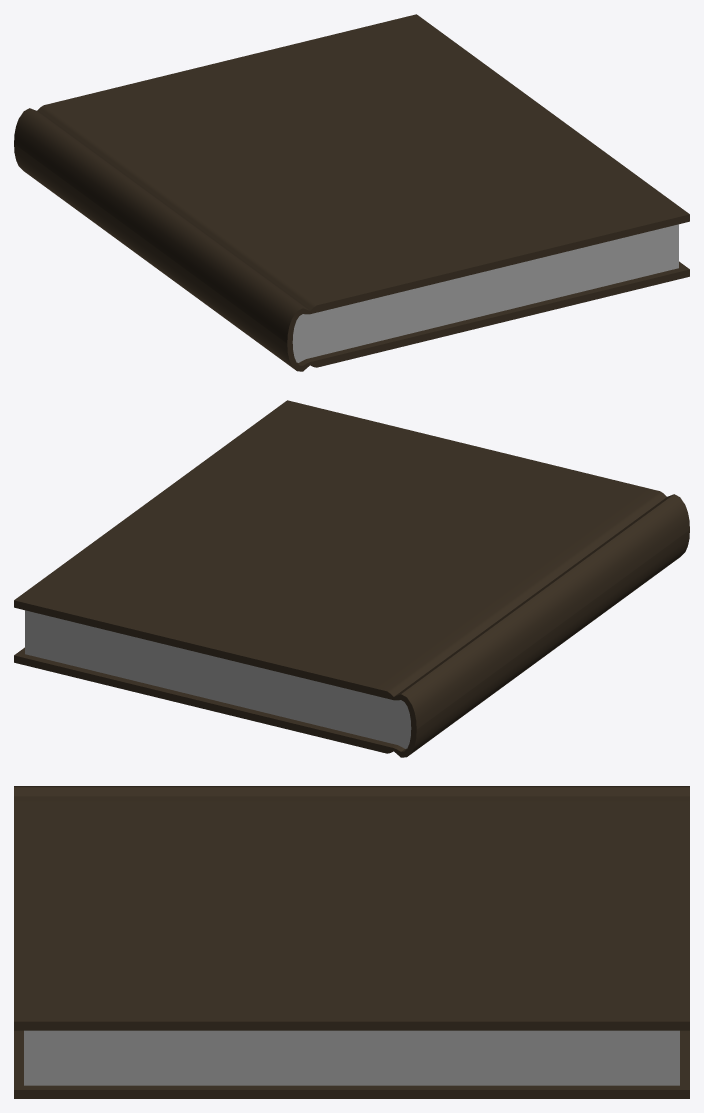
The model's file is SpareBook.fbx.
3 views of the same model, one above another, from view 1: azimuth 30°, elevation 25°; view 2: azimuth 150°, elevation 25°; view 3: azimuth 270°, elevation 25° (orthographic). The views are drawn at different scales.
Visible parts, largest first — view 1: book_placeholder; view 2: book_placeholder; view 3: book_placeholder.
Boxes of the visible parts, x1=… form: book_placeholder: x1=14, y1=14, x2=689, y2=371; book_placeholder: x1=14, y1=400, x2=689, y2=757; book_placeholder: x1=14, y1=786, x2=689, y2=1098.
Size of the model in its own units: 28.94 by 4.37 by 34.02.
